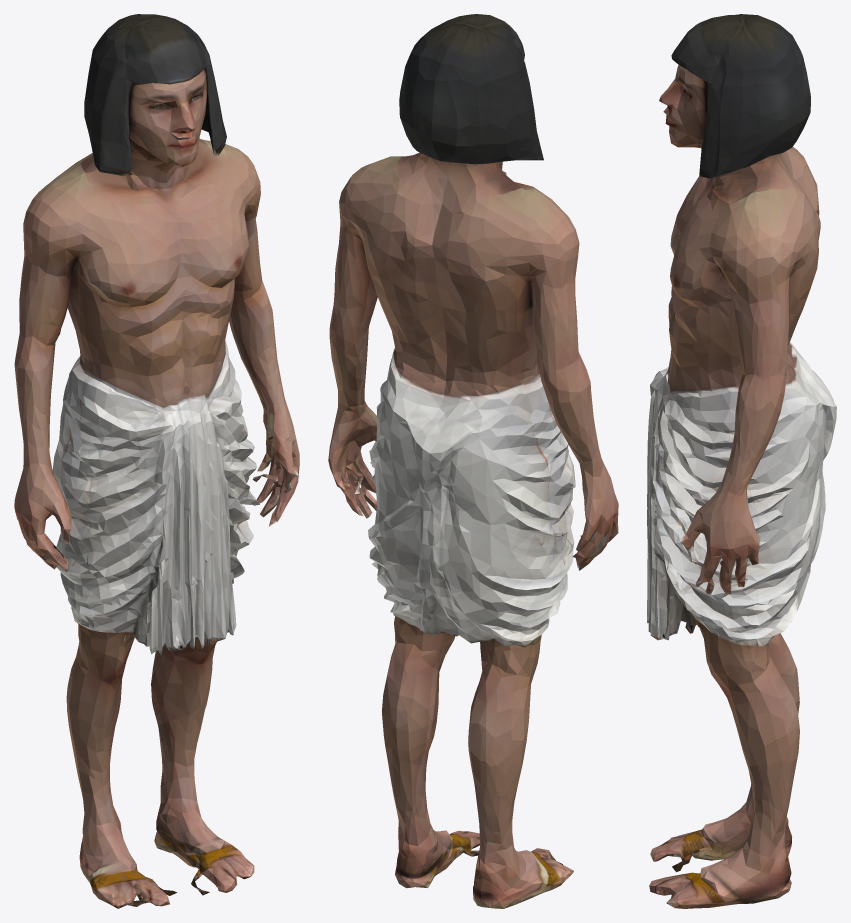
File: Ancient_Attire_Model_0619100120_texture.fbx
3 renders of one model, left to right at view 1: azimuth 30°, elevation 25°; view 2: azimuth 150°, elevation 25°; view 3: azimuth 270°, elevation 25°, orthographic.
Visible parts, largest first — view 1: temp; view 2: temp; view 3: temp.
Boxes of the visible parts, bbox=[...] form: temp: bbox=[14, 14, 299, 908]; temp: bbox=[328, 14, 618, 908]; temp: bbox=[647, 14, 836, 908].
Size of the model in its own units: 67.79 by 200 by 40.22.
1 material, 1 textured.
